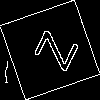Z: (25, 25, 79, 72)
